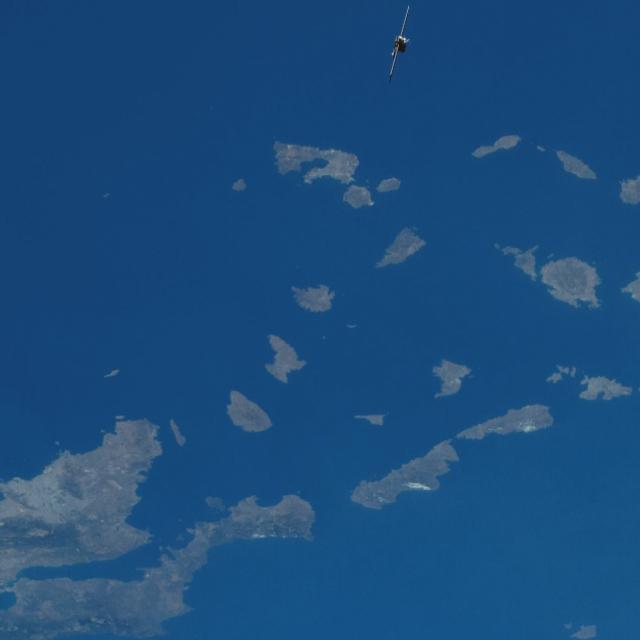satellite: (379, 4, 431, 87)
